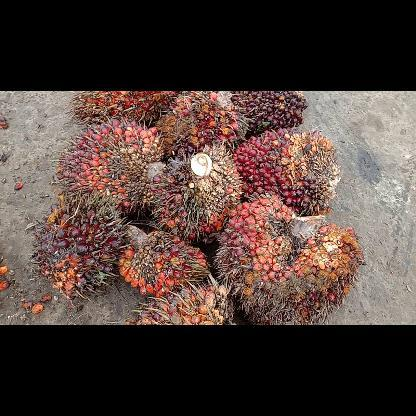TBS masak: (218, 192, 360, 324), (32, 196, 122, 300), (233, 127, 338, 214), (59, 127, 165, 209), (153, 144, 243, 238), (116, 224, 212, 296), (158, 91, 240, 161), (136, 281, 232, 323), (71, 91, 179, 125), (229, 91, 308, 135)
